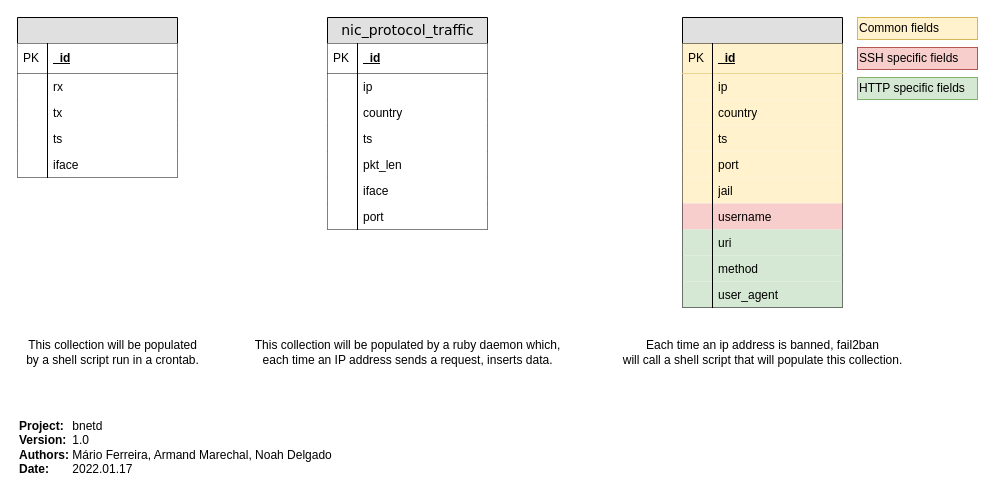
The diagram is 995 pixels wide and 495 high, and some of its shapes have lost their labels. The shapes that lost their labels are listed below. From the top down, each one's box as (x1, y1, x2, y2) in pixels, then its label:
(16, 16, 178, 178): nic_global_traffic
(682, 16, 842, 308): bans
